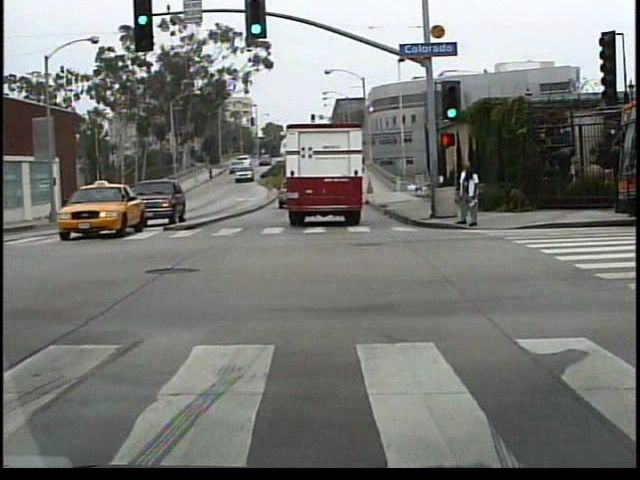person: (457, 160, 484, 229)
